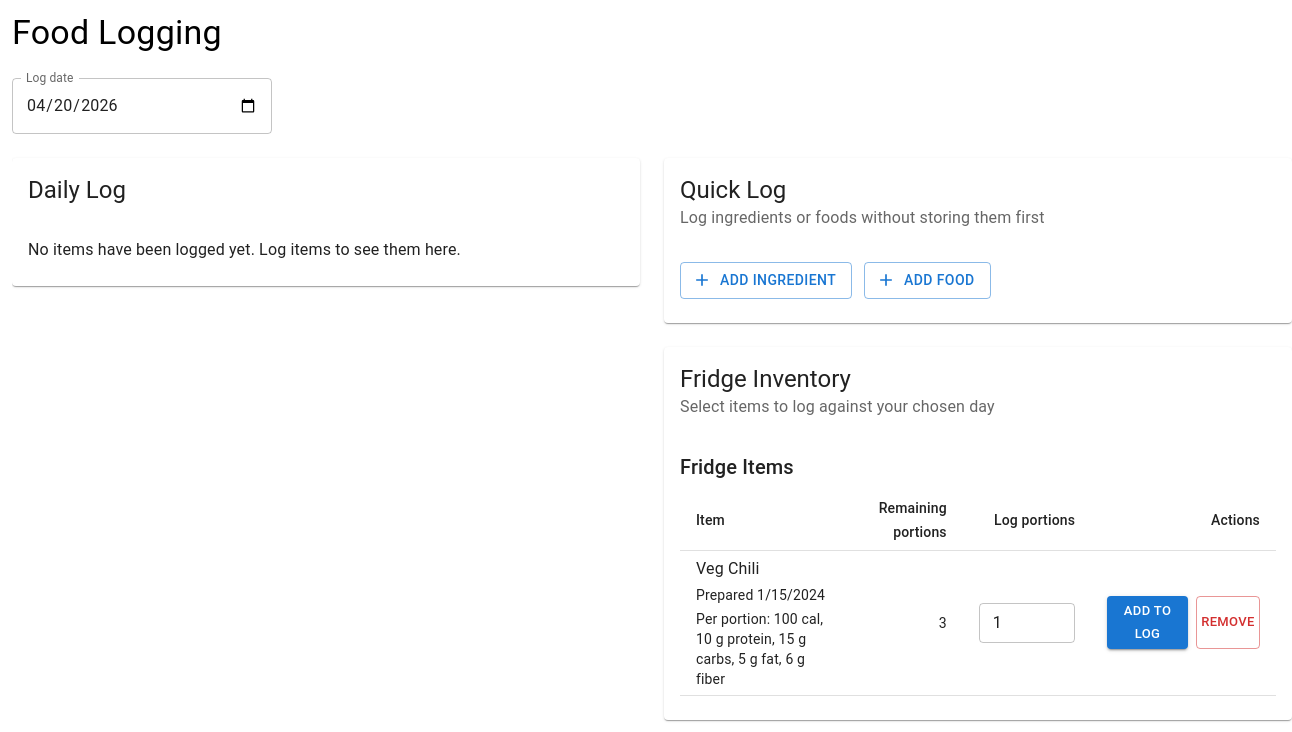
Scenario: Logging component › removes fridge items when requested
Click the button "Remove" at (1228, 623), box x1=1196 y1=596 x2=1260 y2=649
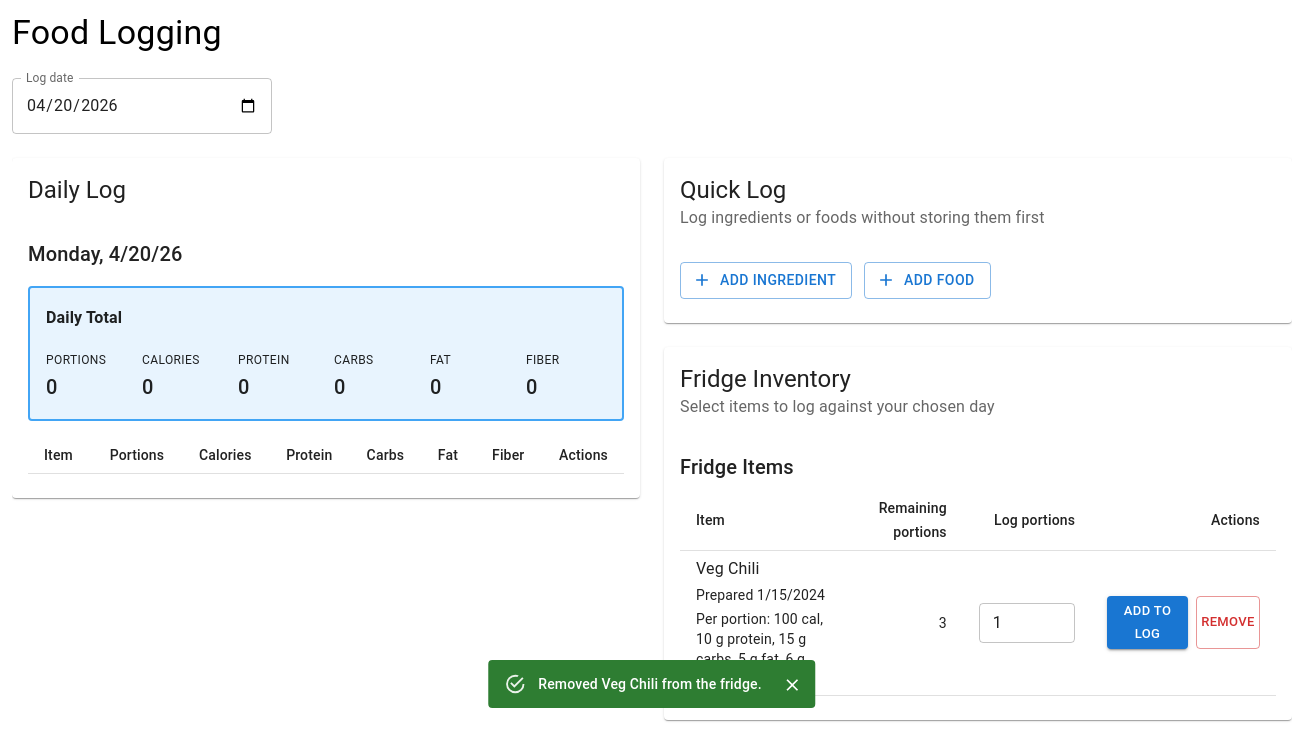
Check: the text "Removed Veg Chili from the fridge." is shown, box x1=538 y1=676 x2=762 y2=692
